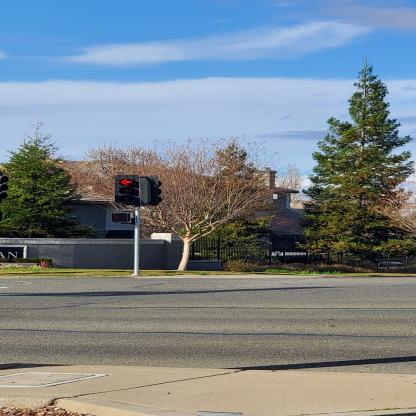left-red: (115, 174, 139, 206)
